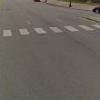Crosswalk: (3, 22, 100, 45)
